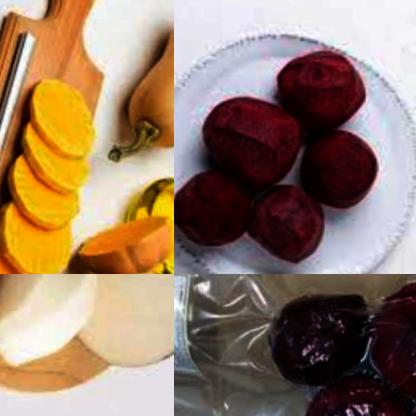beet: (263, 282, 377, 388), (274, 43, 368, 134), (196, 99, 298, 181), (294, 131, 385, 212), (174, 164, 254, 254), (367, 274, 416, 415), (248, 185, 325, 264), (289, 369, 416, 416)
pumpkin: (103, 3, 174, 168), (70, 211, 173, 274), (2, 150, 84, 226), (22, 71, 100, 148), (0, 199, 77, 274), (14, 123, 94, 193), (0, 241, 59, 274)
redka: (0, 274, 103, 370), (67, 274, 174, 366)
